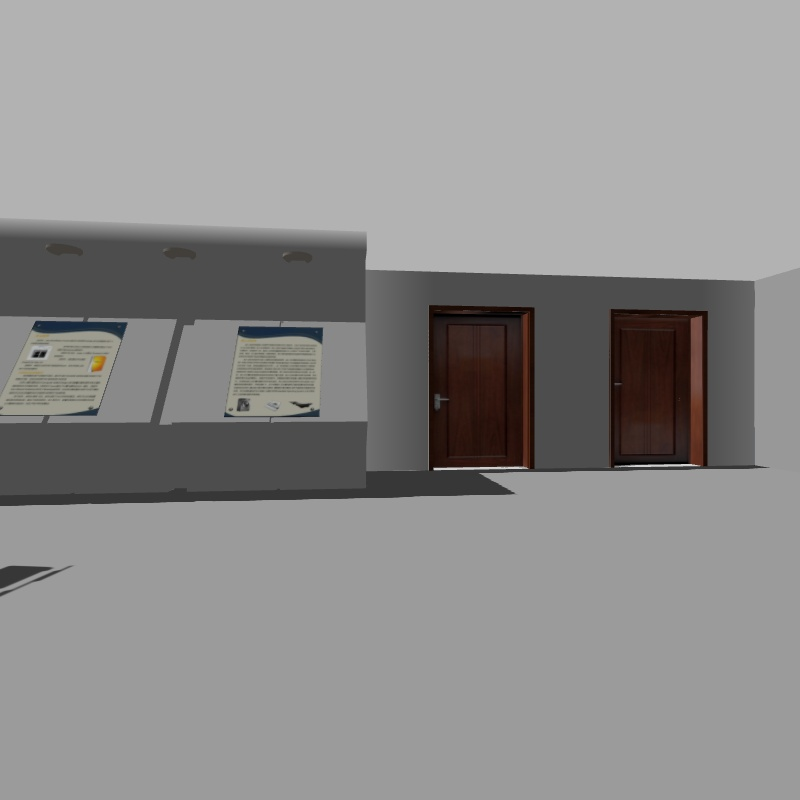handle: (426, 386, 454, 413), (606, 378, 621, 388)
